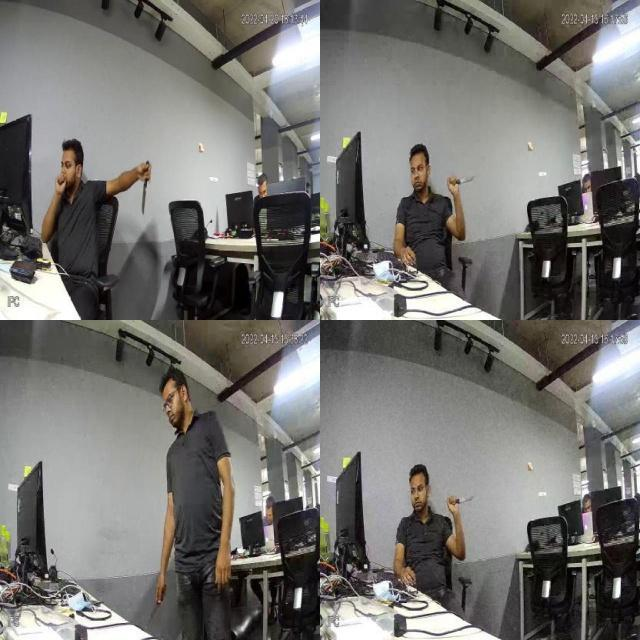-: (143, 597, 165, 628), (450, 489, 477, 510), (449, 172, 477, 190), (139, 177, 152, 215)
